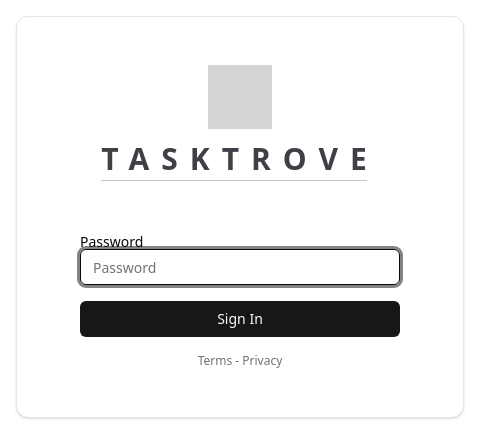
Scenario: LoginForm › Password Visibility Toggle › toggles password visibility when button is clicked
Type "test" into the password field with placeholder "Password".
click(240, 267); type("test")  # box [80,249,400,285]
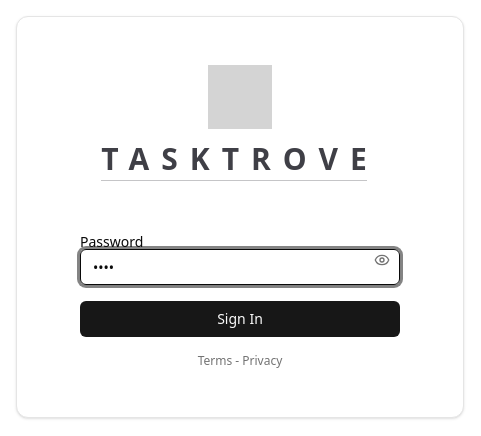
// Click to show password
Click the button named "Show password".
click(382, 260)  # box [364,235,400,285]
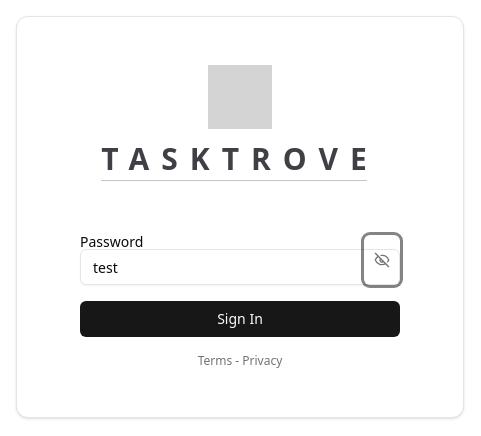
Result: the field with placeholder "Password" shows its text at [80,249,400,285]
Result: the button named "Hide password" is shown
// Click to hide password again
Click the button named "Hide password".
click(382, 260)  # box [364,235,400,285]
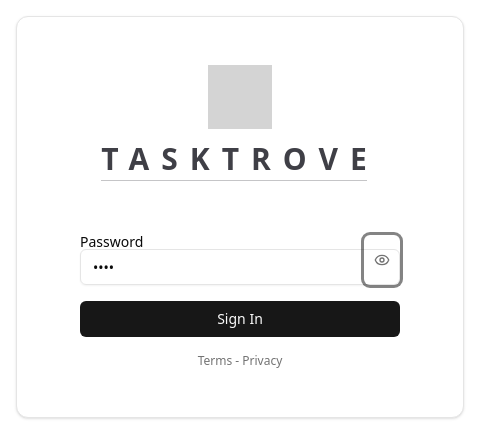
Result: the password field with placeholder "Password" hides its text at [80,249,400,285]
Result: the button named "Show password" is shown at [364,235,400,285]
